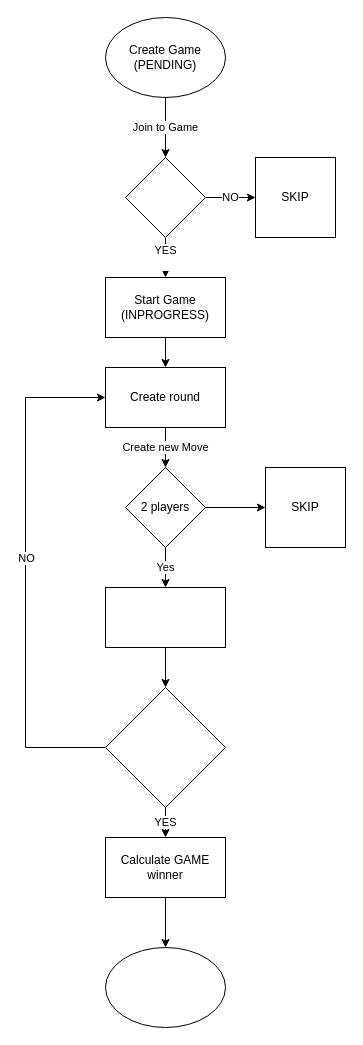
Image size: 363x1045. Some labels were removed from this diagram. Each missing label, with the box of its shape:
Calculate ROUND winner: (104, 586, 226, 648)
End Game (FINISHED): (104, 946, 226, 1028)
new player: (124, 156, 206, 238)
total rounds == game rounds: (104, 686, 226, 808)
